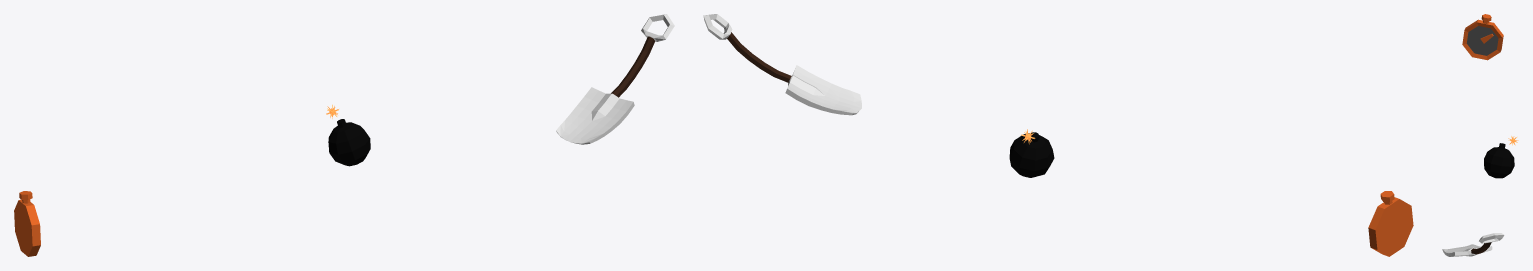
File: bomba_zaman_kurek.fbx
The picture shows the model from 3 angles, left to right: view 1: azimuth 30°, elevation 25°; view 2: azimuth 150°, elevation 25°; view 3: azimuth 270°, elevation 25°; orthographic projection. The views are drawn at different scales.
Parts seen in each view (by area): view 1: Cube, Sphere.001, Cylinder.130; view 2: Cube, Cylinder.130, Sphere.001; view 3: Cylinder.130, Sphere.001, Cube.
Part boxes in pixels (x1,y1,x2,y2): Cube: [556, 14, 674, 144]; Sphere.001: [326, 104, 370, 166]; Cylinder.130: [14, 191, 40, 256]; Cube: [703, 14, 861, 115]; Cylinder.130: [1368, 191, 1413, 256]; Sphere.001: [1009, 129, 1054, 177]; Cylinder.130: [1462, 14, 1503, 60]; Sphere.001: [1484, 136, 1518, 178]; Cube: [1442, 233, 1504, 256].
Bounding box in the file's own units: 468 × 54.74 × 64.21.
